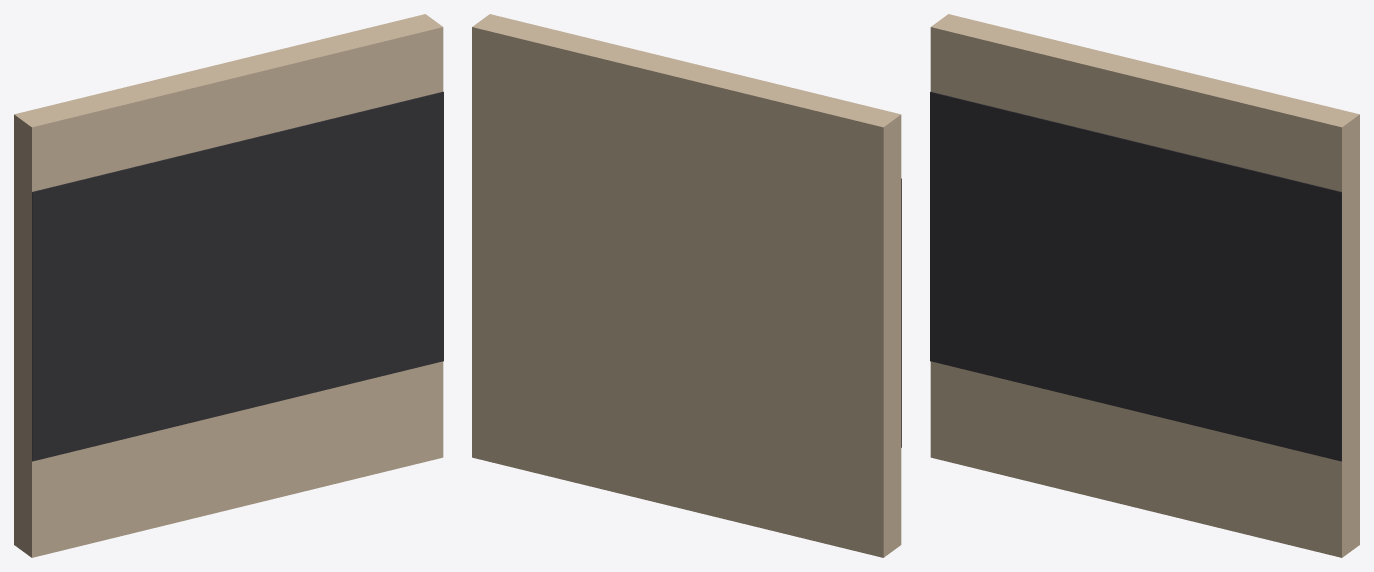
File: city_far_office.glb
3 renders of one model, left to right at view 1: azimuth 30°, elevation 25°; view 2: azimuth 150°, elevation 25°; view 3: azimuth 330°, elevation 25°, orthographic.
Parts seen in each view (by area): view 1: CityFarOffice_Band, CityFarOffice_Wall; view 2: CityFarOffice_Wall; view 3: CityFarOffice_Band, CityFarOffice_Wall.
Boxes of the visible parts, x1,y1,x2,y2 form: CityFarOffice_Band: (32,91,443,461); CityFarOffice_Wall: (14,14,443,557); CityFarOffice_Wall: (472,14,901,557); CityFarOffice_Band: (930,91,1341,461); CityFarOffice_Wall: (930,14,1359,557).
Size of the model in its own units: 4 by 4 by 0.31.
